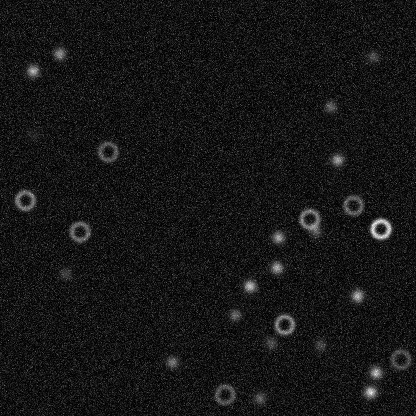Ring: (212, 382, 236, 406), (368, 216, 392, 240), (95, 139, 119, 163), (341, 193, 365, 217), (272, 312, 296, 336), (67, 219, 91, 243), (12, 188, 36, 212), (297, 206, 321, 230), (388, 347, 412, 371)
Spot: (322, 98, 338, 114), (312, 336, 328, 352), (329, 151, 345, 167), (268, 259, 284, 275), (367, 364, 383, 380), (227, 306, 243, 322), (51, 45, 67, 61), (24, 62, 40, 78), (241, 277, 257, 293), (25, 127, 41, 143), (164, 353, 180, 369), (262, 334, 278, 350), (307, 222, 323, 238), (57, 265, 73, 281), (365, 48, 381, 64), (251, 389, 267, 405), (362, 383, 378, 399), (349, 287, 365, 303), (270, 229, 286, 245)
